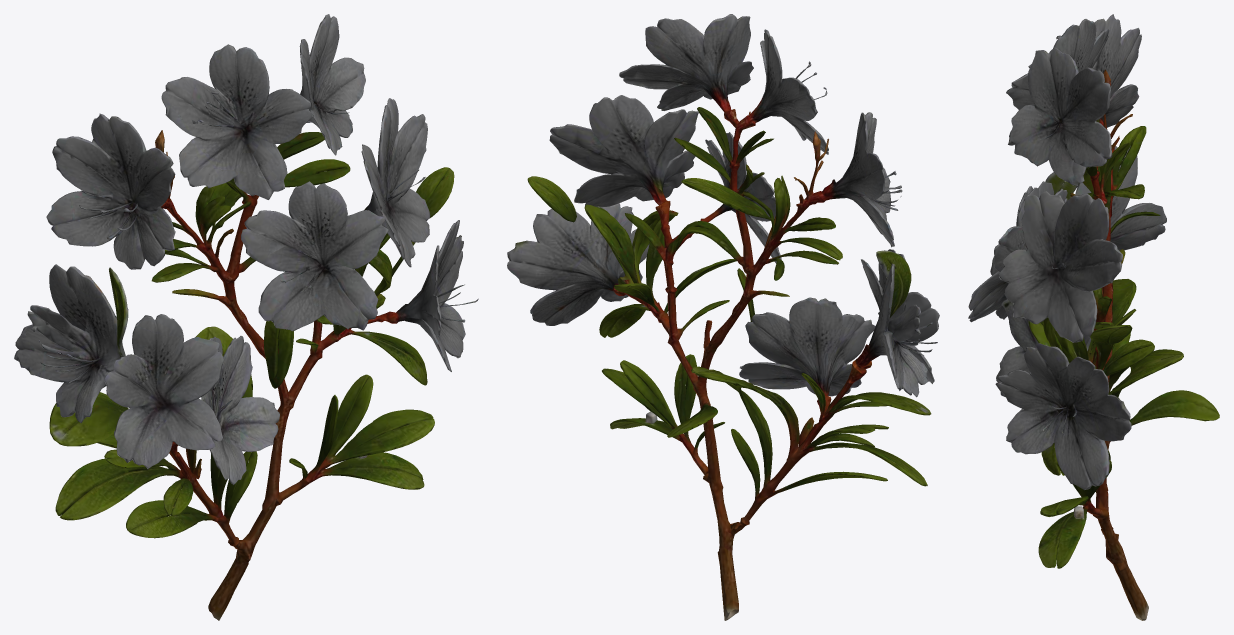
Rendered from KoreanAzalea.glb.
3 views of the same model, side by side, from view 1: azimuth 30°, elevation 25°; view 2: azimuth 150°, elevation 25°; view 3: azimuth 270°, elevation 25° (orthographic). The views are drawn at different scales.
Visible parts, largest first — view 1: Mesh_0; view 2: Mesh_0; view 3: Mesh_0.
Boxes of the visible parts, x1,y1,x2,y2 form: Mesh_0: [14, 14, 478, 620]; Mesh_0: [507, 14, 939, 620]; Mesh_0: [968, 14, 1219, 620].
Size of the model in its own units: 0.7609 by 1 by 0.3848.
Materials: 1 (1 with a texture image).
